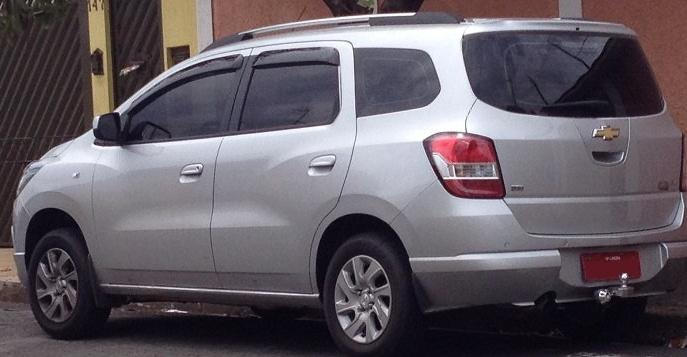Minivan: (12, 14, 687, 355)
